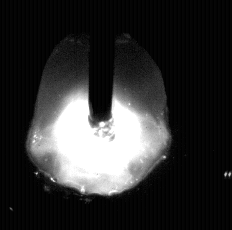arame: (89, 0, 115, 128)
poca: (28, 0, 171, 230)
